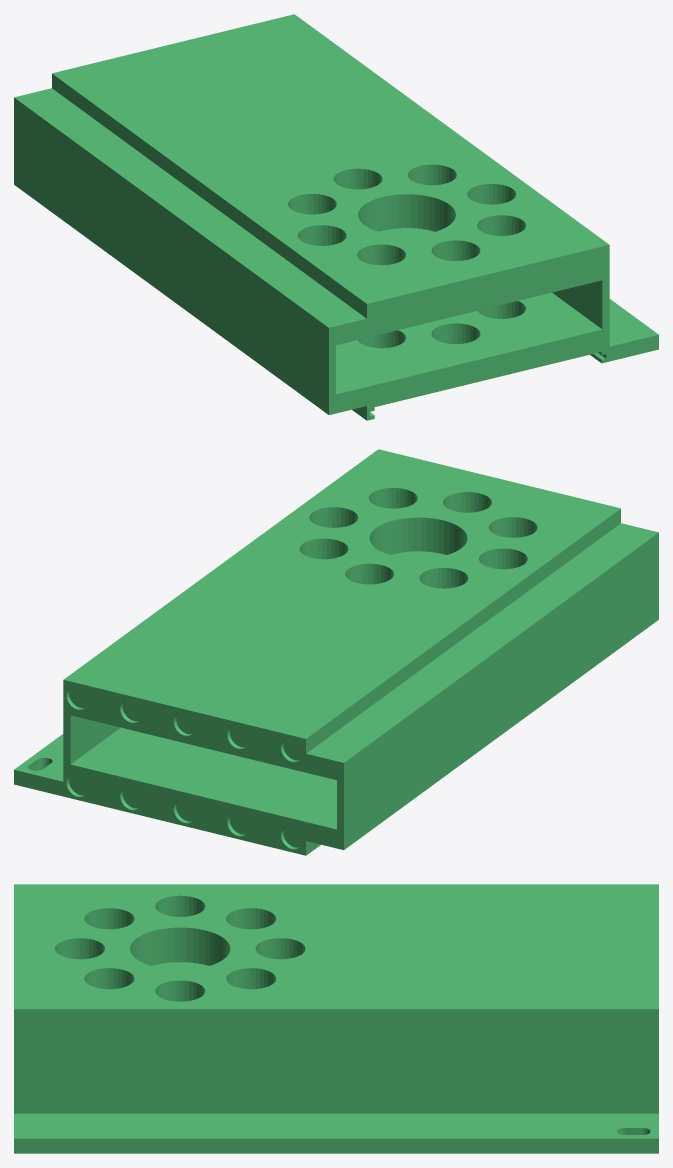
The model's file is window-base-layer.glb.
3 views of the same model, one above another, from view 1: azimuth 30°, elevation 25°; view 2: azimuth 150°, elevation 25°; view 3: azimuth 270°, elevation 25° (orthographic). The views are drawn at different scales.
Parts seen in each view (by area): view 1: window-base-layer; view 2: window-base-layer; view 3: window-base-layer.
Boxes of the visible parts, x1,y1,x2,y2 form: window-base-layer: (14,14,658,420); window-base-layer: (14,449,658,855); window-base-layer: (14,884,658,1153).
Bounding box in the file's own units: 0.1482 × 0.0501 × 0.2451.
